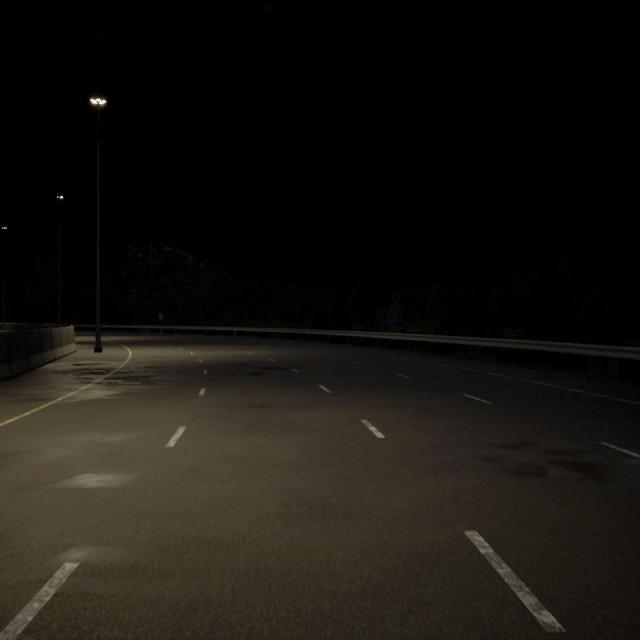Traffic_Signs: (159, 314, 163, 320)
